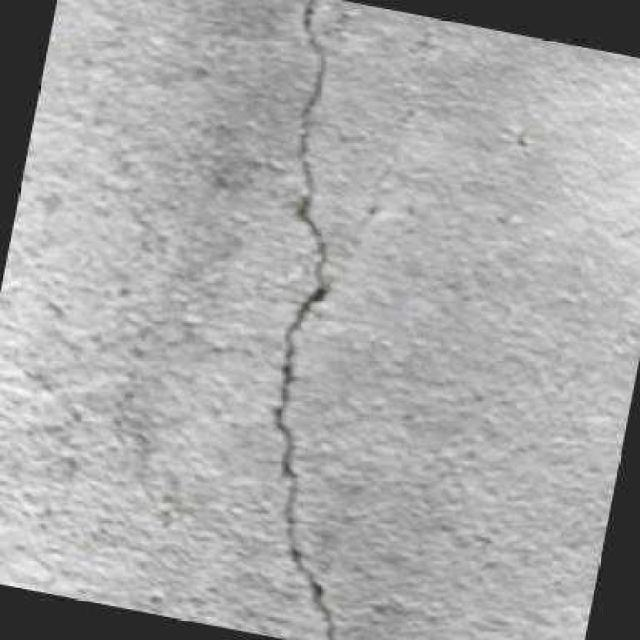D00: (273, 0, 336, 640)
